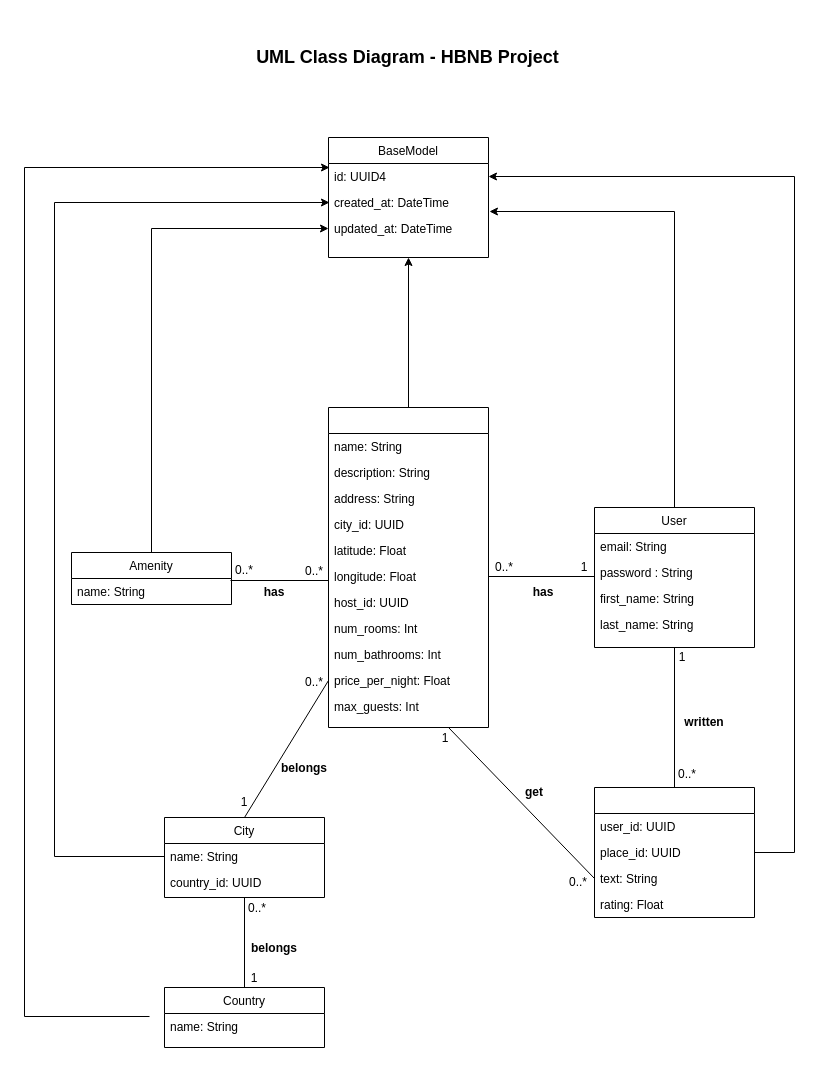
Image size: 820x1065. Some labels were removed from this diagram. Here are the shapes that lost their labels. From the top down, the box of each, then its label:
(328, 406, 488, 728): Place
(594, 786, 754, 918): Review
